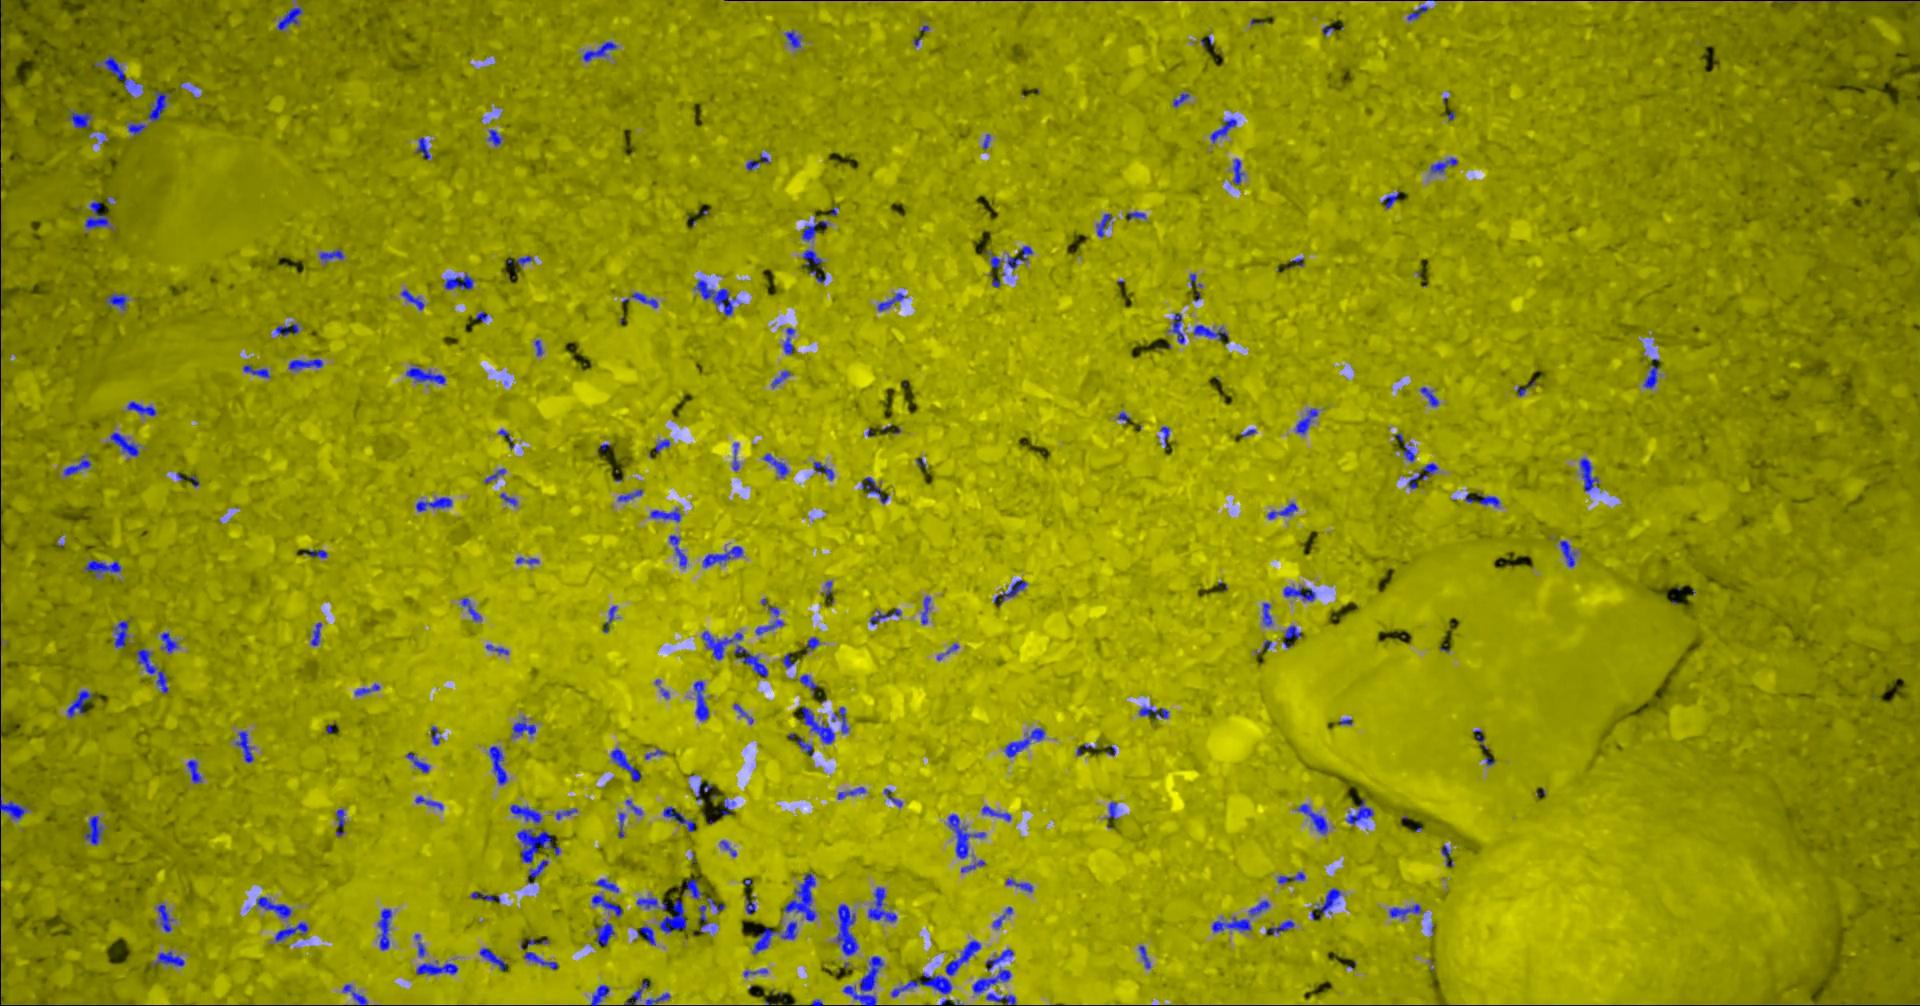ant: (891, 939, 982, 997), (844, 955, 885, 1005), (95, 55, 138, 94), (949, 813, 987, 857), (974, 968, 1017, 1005), (785, 873, 818, 920), (695, 279, 738, 315), (518, 828, 563, 862), (137, 648, 170, 694), (803, 706, 836, 743), (1006, 728, 1046, 757), (703, 631, 744, 659), (735, 645, 770, 677), (838, 903, 858, 955), (612, 747, 643, 781), (1312, 887, 1342, 920), (869, 887, 898, 921), (1299, 803, 1330, 833), (662, 898, 688, 932), (996, 579, 1029, 606), (703, 545, 744, 567), (757, 605, 785, 634), (258, 895, 293, 917), (1410, 462, 1439, 488), (665, 807, 696, 831), (490, 746, 509, 784), (863, 476, 890, 503), (753, 927, 781, 953), (110, 432, 140, 456), (584, 41, 618, 61), (69, 690, 94, 716), (1349, 799, 1375, 824), (86, 199, 110, 227), (276, 921, 309, 941), (593, 894, 623, 916), (408, 367, 447, 384), (1211, 118, 1238, 142), (625, 981, 651, 1005), (987, 948, 1015, 970), (1581, 459, 1600, 492), (695, 680, 710, 720), (1297, 408, 1319, 434), (1, 796, 28, 819), (524, 951, 559, 969), (1213, 916, 1252, 931), (86, 559, 122, 575), (510, 804, 543, 822), (764, 453, 789, 478), (278, 8, 303, 30), (149, 90, 168, 121), (790, 732, 815, 754), (481, 948, 507, 970), (378, 908, 392, 949), (1195, 324, 1229, 340), (670, 535, 688, 567), (237, 730, 255, 762), (1010, 245, 1034, 268), (344, 983, 370, 1005), (803, 220, 829, 240), (65, 455, 91, 475), (1269, 502, 1299, 520), (417, 962, 458, 974), (446, 272, 475, 290), (417, 497, 453, 511), (1170, 312, 1186, 343), (879, 292, 907, 310), (86, 815, 104, 843), (408, 751, 430, 772), (462, 597, 483, 621), (596, 922, 616, 946), (1285, 586, 1317, 601), (871, 608, 902, 624), (530, 859, 550, 882), (994, 906, 1015, 929), (155, 951, 185, 967), (1390, 904, 1423, 918), (983, 805, 1012, 821), (1267, 920, 1297, 935), (1561, 540, 1577, 567), (833, 706, 850, 733), (157, 904, 174, 931), (403, 290, 425, 309), (514, 716, 537, 735), (651, 507, 682, 521), (1284, 625, 1303, 647), (637, 923, 657, 945), (128, 401, 157, 415), (1432, 158, 1459, 173), (632, 292, 659, 307), (637, 897, 669, 909), (290, 358, 324, 370), (604, 605, 618, 633), (417, 795, 444, 809), (815, 461, 836, 480), (735, 702, 754, 723), (592, 984, 611, 1005), (70, 111, 91, 128), (747, 154, 770, 170), (116, 620, 130, 647), (1140, 705, 1170, 718), (885, 788, 904, 807), (1422, 386, 1440, 406), (163, 633, 180, 653), (801, 674, 819, 695), (687, 878, 703, 899), (244, 365, 272, 377), (839, 786, 867, 799), (1644, 365, 1660, 387), (188, 760, 203, 782), (773, 370, 792, 387), (1007, 878, 1034, 890), (1098, 213, 1112, 238), (963, 859, 987, 873), (472, 890, 502, 902), (108, 293, 130, 309), (646, 992, 672, 1005), (785, 326, 796, 354), (597, 878, 620, 892), (987, 250, 1004, 268), (804, 249, 823, 265), (486, 467, 507, 483), (1279, 871, 1305, 883), (1250, 901, 1271, 915), (1383, 191, 1399, 208), (1410, 5, 1429, 20), (277, 323, 300, 335), (618, 489, 644, 500), (1478, 493, 1501, 506), (356, 683, 381, 695), (698, 781, 714, 800), (321, 249, 345, 260), (418, 137, 430, 159), (786, 30, 803, 47), (1234, 158, 1244, 184), (782, 921, 797, 939), (723, 796, 737, 815), (1443, 843, 1454, 866), (1140, 945, 1152, 968), (923, 596, 932, 624), (337, 808, 345, 836), (700, 904, 709, 932), (509, 255, 533, 265), (1263, 602, 1274, 626), (489, 130, 504, 145), (312, 622, 323, 645), (488, 644, 510, 654), (557, 808, 578, 819), (417, 934, 427, 956), (745, 895, 757, 915), (808, 636, 822, 652), (1175, 93, 1191, 105), (657, 439, 670, 453), (618, 812, 626, 837), (1404, 445, 1416, 461), (130, 123, 147, 133), (309, 549, 328, 558), (1109, 801, 1117, 818), (517, 558, 540, 564), (433, 727, 441, 744)
